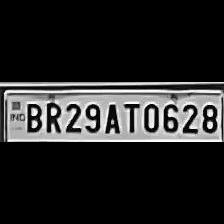0: (140, 100, 160, 132)
2: (62, 99, 82, 133), (178, 102, 198, 134)
6: (158, 100, 178, 132)
8: (198, 101, 218, 133)
9: (82, 100, 102, 132)
A: (102, 100, 122, 134)
B: (22, 100, 42, 132)
R: (42, 99, 62, 134)
T: (120, 100, 140, 134)
